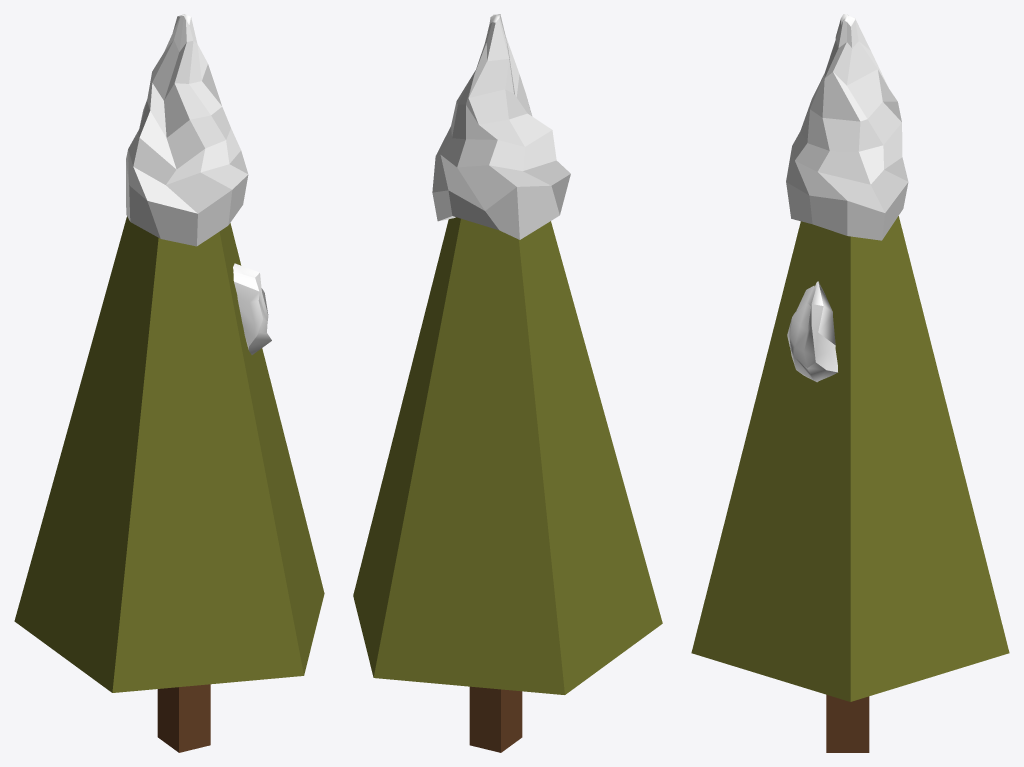
The model's file is cay thong 2.fbx.
3 views of the same model, side by side, from view 1: azimuth 30°, elevation 25°; view 2: azimuth 150°, elevation 25°; view 3: azimuth 270°, elevation 25° (orthographic).
Visible parts, largest first — view 1: caythong_2; view 2: caythong_2; view 3: caythong_2.
Boxes of the visible parts, x1,y1,x2,y2 form: caythong_2: (14,14,324,752); caythong_2: (353,14,662,752); caythong_2: (691,14,1009,752).
Bounding box in the file's own units: 0.7746 × 2.06 × 0.8145.
1 material, 1 textured.
